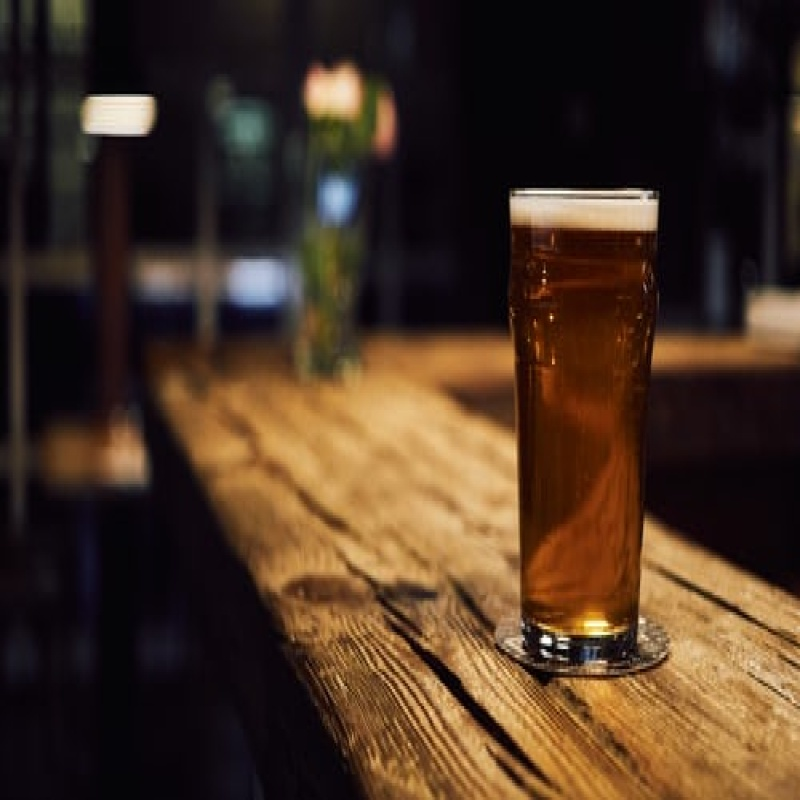whiskey: (510, 182, 680, 671)
